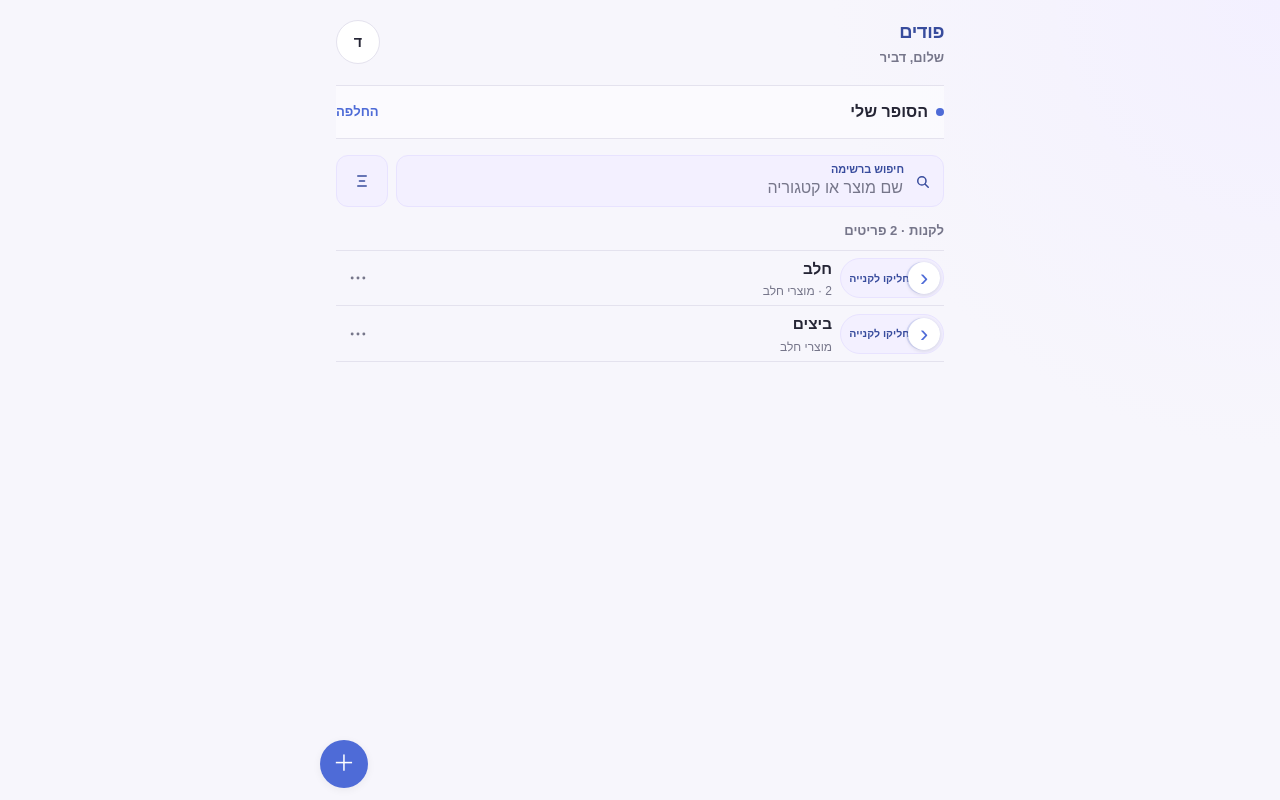
shows a Hebrew error toast and closes the confirmation when deleting an item fails (finding #3)
Click the button named "פעולות עבור חלב" at (358, 278), box x1=336 y1=256 x2=380 y2=300
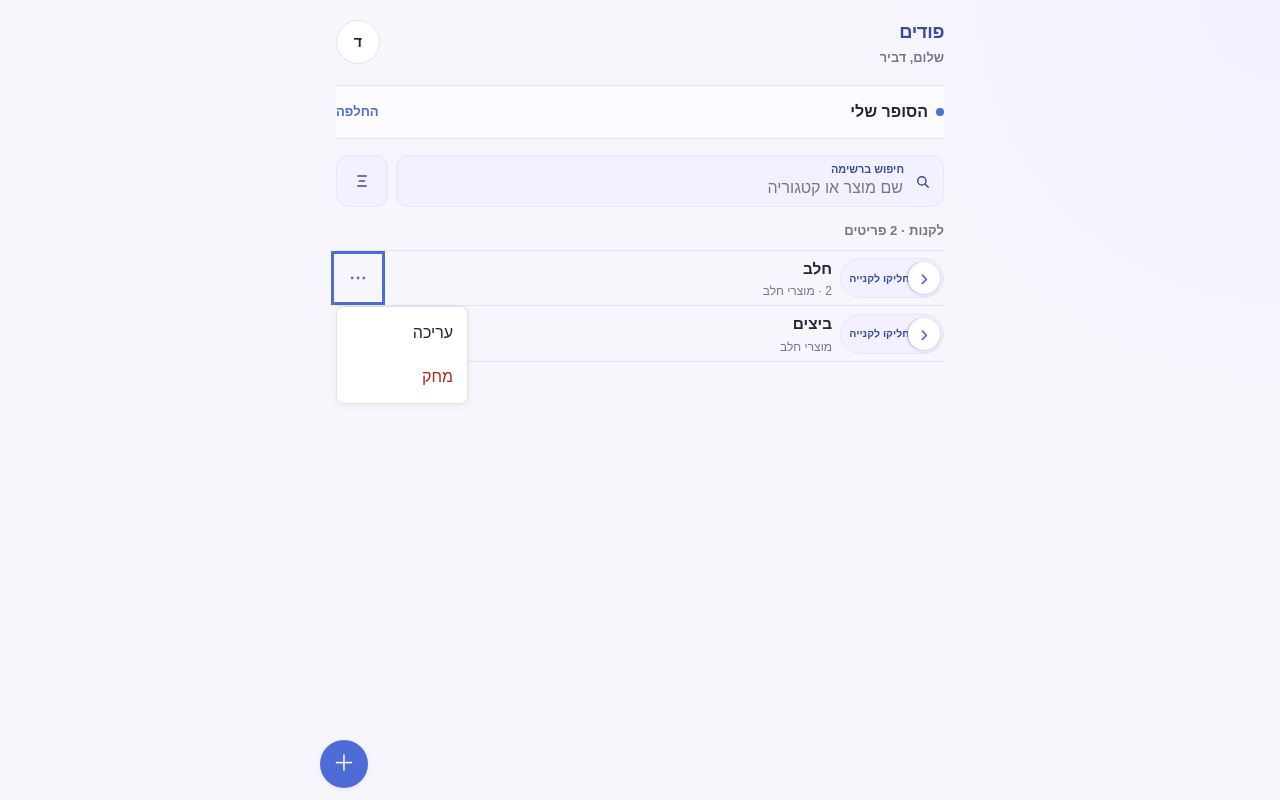
Click the button "מחק" at (402, 378), box x1=341 y1=356 x2=463 y2=400
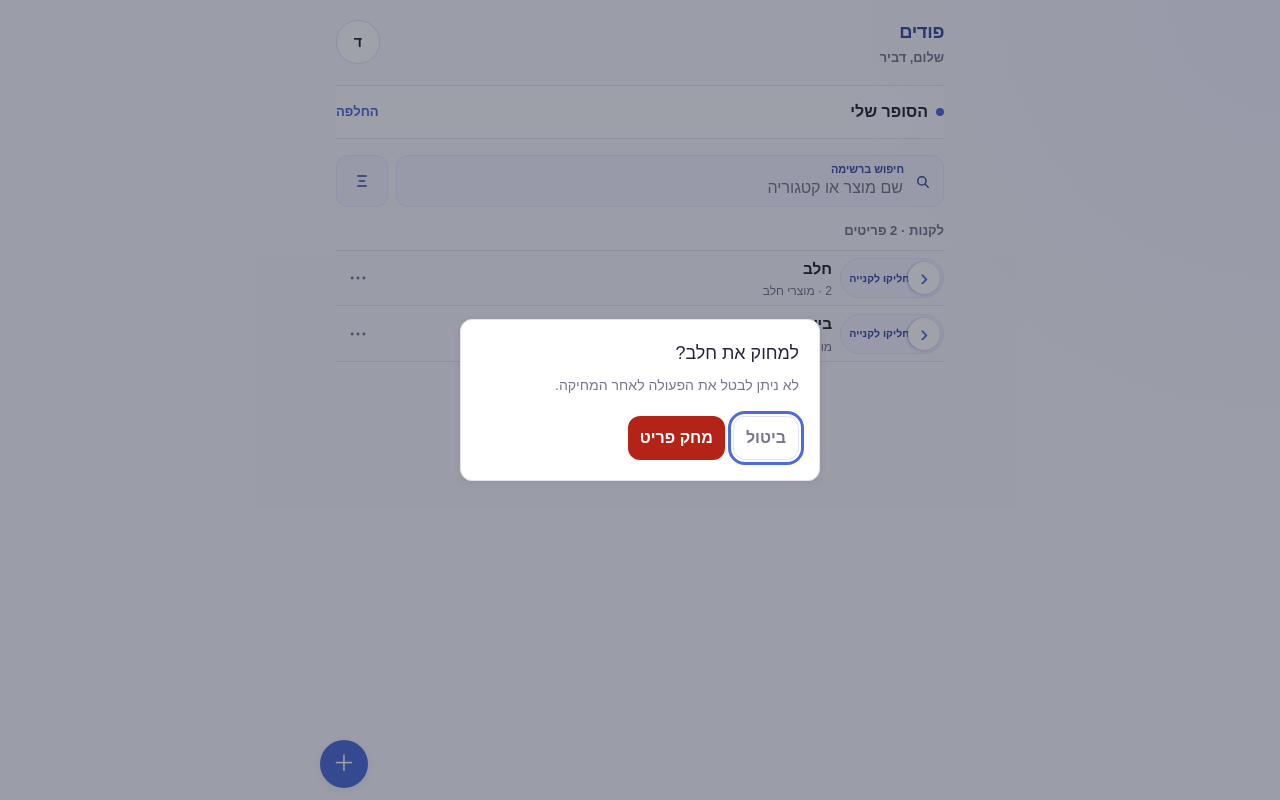
Click the button "מחק פריט" at (676, 438), box x1=628 y1=416 x2=725 y2=460
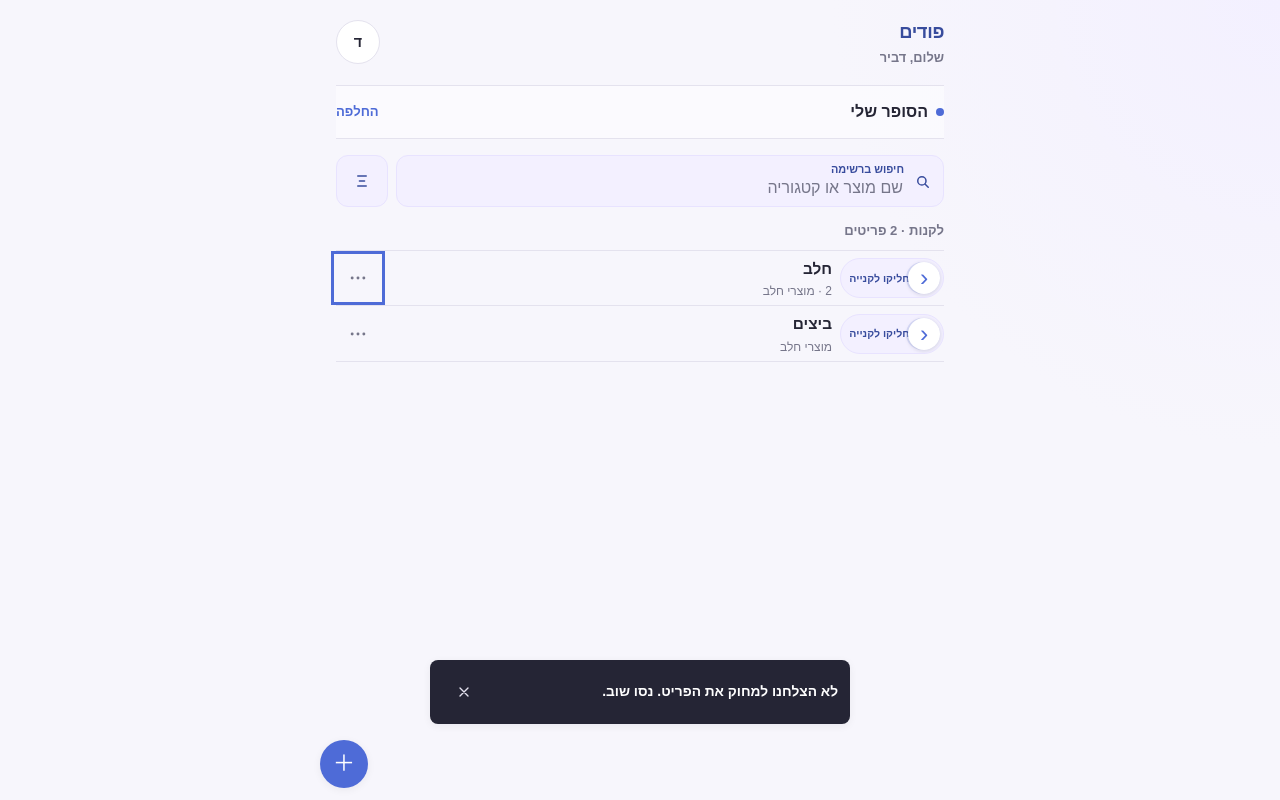
Now the text "לא הצלחנו למחוק את הפריט. נסו שוב." is shown, box x1=602 y1=684 x2=838 y2=699
Now the dialog is gone
